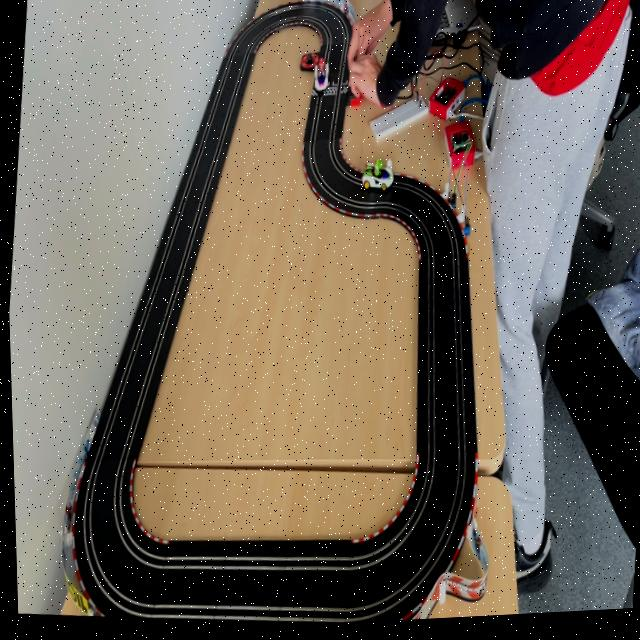mario: (311, 59, 331, 98)
yoshi: (358, 158, 395, 198)
